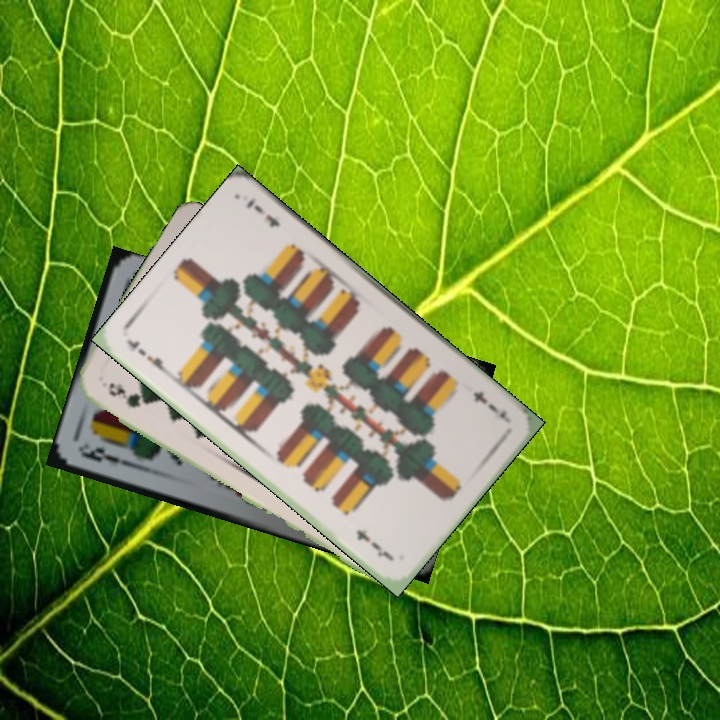E7: (123, 335, 173, 378), (468, 386, 512, 425)
EK: (77, 443, 134, 469)
G9: (103, 378, 151, 411)
